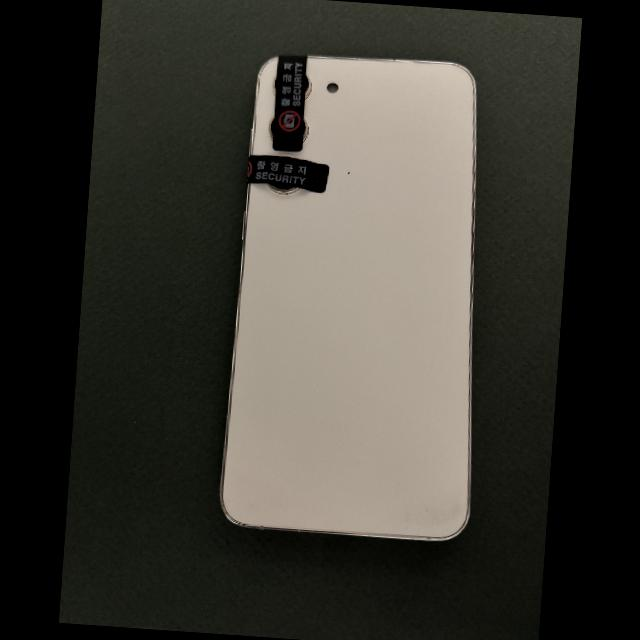lens: (268, 184, 299, 195), (303, 117, 309, 143), (306, 74, 312, 99)
phone: (220, 53, 476, 540)
sticker: (272, 54, 307, 151), (246, 155, 329, 192)
